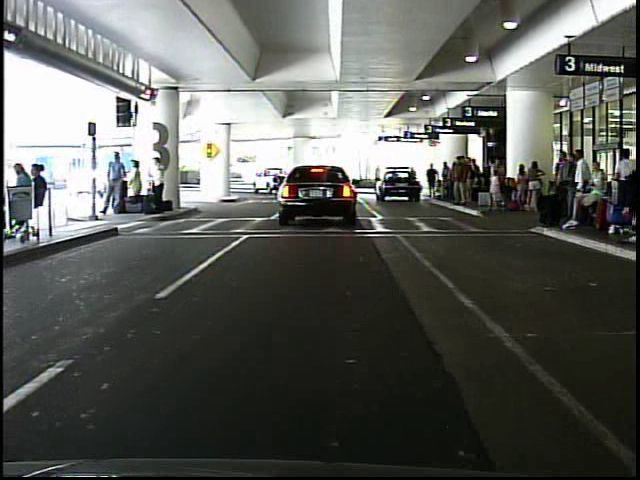person: (99, 150, 131, 220), (150, 154, 167, 215), (128, 158, 147, 211), (426, 162, 440, 199)
